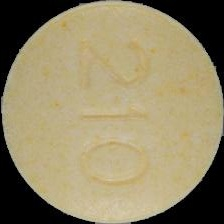0143-9717: (0, 0, 224, 224)
